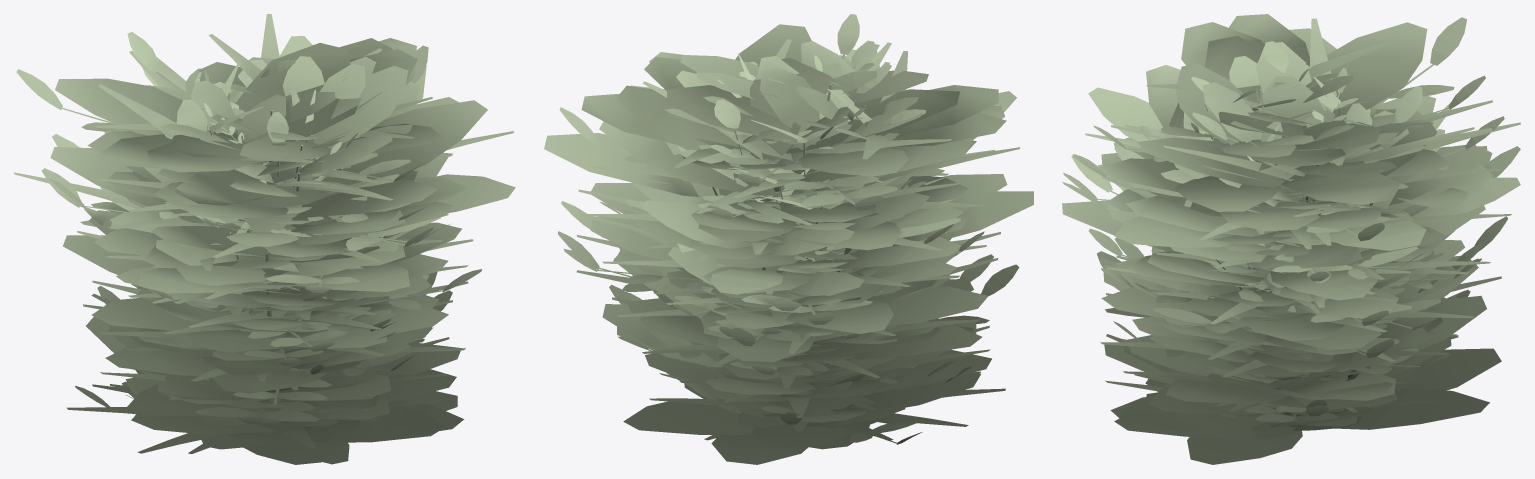
File: herb_clump.glb
The picture shows the model from 3 angles, left to right: view 1: azimuth 30°, elevation 25°; view 2: azimuth 150°, elevation 25°; view 3: azimuth 270°, elevation 25°; orthographic projection. The views are drawn at different scales.
Parts seen in each view (by area): view 1: v7_foliage, v17_foliage, v3_foliage, v25_foliage, v23_foliage, v14_foliage, v13_foliage, v11_foliage, v4_foliage, v9_foliage, v5_foliage, v18_foliage (+8 smaller); view 2: v17_foliage, v7_foliage, v3_foliage, v23_foliage, v25_foliage, v14_foliage, v13_foliage, v18_foliage, v9_foliage, v11_foliage, v4_foliage, v5_foliage (+8 smaller); view 3: v7_foliage, v17_foliage, v3_foliage, v23_foliage, v14_foliage, v25_foliage, v13_foliage, v11_foliage, v9_foliage, v4_foliage, v15_foliage, v18_foliage (+8 smaller).
Boxes of the visible parts, box(x1,y1,x2,y2) form: v7_foliage: box(50, 57, 515, 464); v17_foliage: box(86, 38, 467, 434); v3_foliage: box(104, 66, 410, 464); v25_foliage: box(67, 48, 468, 453); v23_foliage: box(14, 14, 513, 453); v14_foliage: box(16, 45, 452, 424); v13_foliage: box(75, 32, 449, 414); v11_foliage: box(132, 110, 481, 410); v4_foliage: box(159, 36, 399, 401); v9_foliage: box(174, 56, 415, 402); v5_foliage: box(200, 60, 325, 329); v18_foliage: box(159, 84, 368, 427); v17_foliage: box(544, 55, 1033, 464); v7_foliage: box(591, 24, 1007, 449); v3_foliage: box(641, 55, 1016, 427); v23_foliage: box(582, 39, 1020, 440); v25_foliage: box(576, 44, 1005, 431); v14_foliage: box(557, 65, 1019, 424); v13_foliage: box(561, 14, 984, 444); v18_foliage: box(710, 67, 923, 428); v9_foliage: box(676, 61, 901, 414); v11_foliage: box(599, 84, 993, 383); v4_foliage: box(664, 41, 904, 410); v5_foliage: box(679, 86, 918, 383); v7_foliage: box(1062, 22, 1489, 464); v17_foliage: box(1098, 14, 1501, 400); v3_foliage: box(1088, 64, 1520, 430); v23_foliage: box(1085, 39, 1511, 412); v14_foliage: box(1063, 17, 1520, 427); v25_foliage: box(1100, 18, 1520, 414); v13_foliage: box(1062, 75, 1507, 409); v11_foliage: box(1071, 89, 1481, 416); v9_foliage: box(1202, 75, 1408, 420); v4_foliage: box(1161, 112, 1398, 438); v15_foliage: box(1203, 82, 1336, 422); v18_foliage: box(1174, 42, 1383, 385).
Size of the model in its own units: 1.28 by 1 by 1.28.
